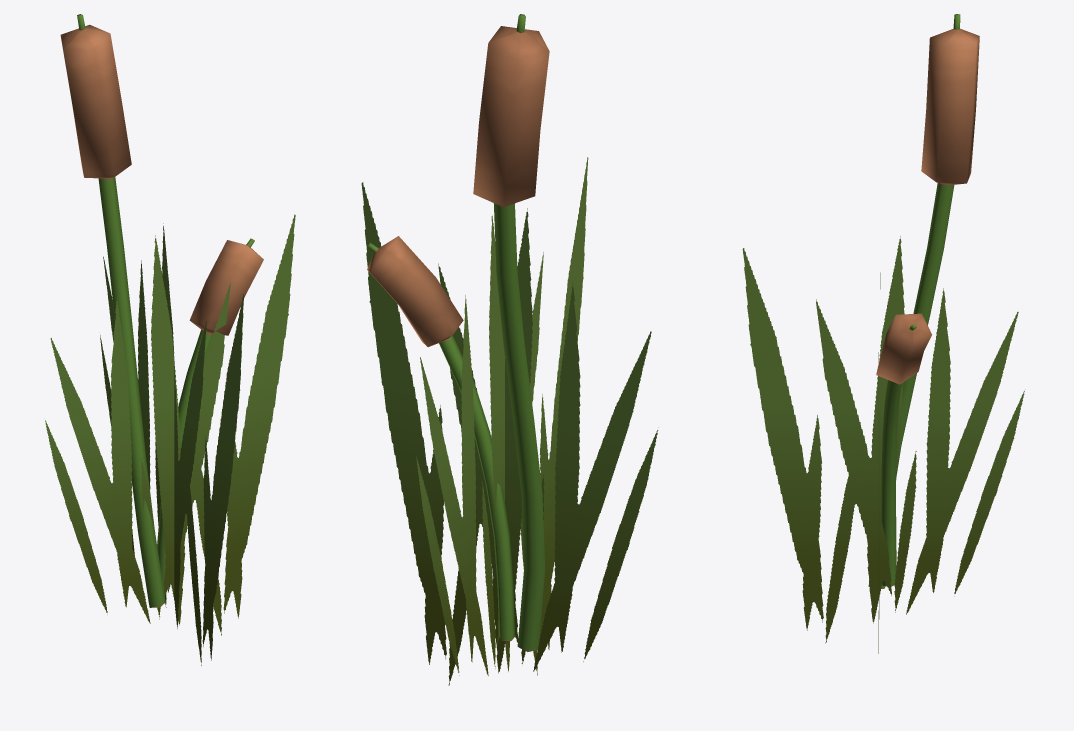
Rendered from water_reed_3.fbx.
3 renders of one model, left to right at view 1: azimuth 30°, elevation 25°; view 2: azimuth 150°, elevation 25°; view 3: azimuth 270°, elevation 25°, orthographic. The views are drawn at different scales.
Visible parts, largest first — view 1: waterreed.002; view 2: waterreed.002; view 3: waterreed.002.
Part boxes in pixels (x1,y1,x2,y2): waterreed.002: (45,14,295,665); waterreed.002: (361,14,658,685); waterreed.002: (742,14,1025,653).
Size of the model in its own units: 240 by 501 by 240.
